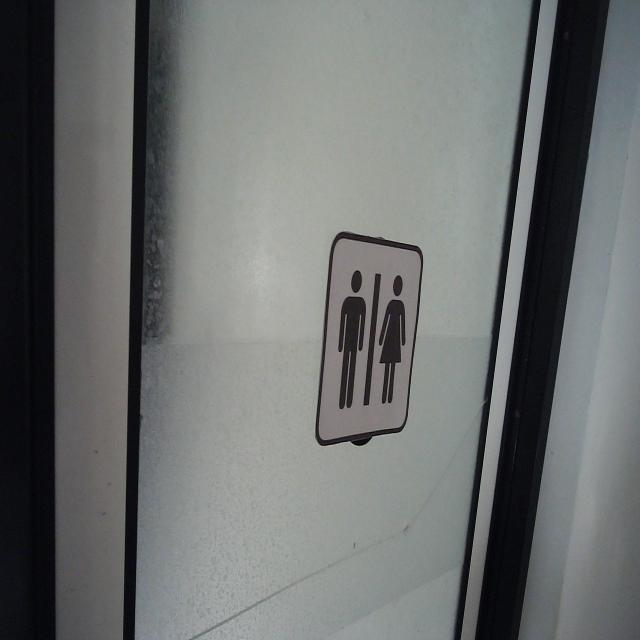restroom: (314, 230, 426, 450)
